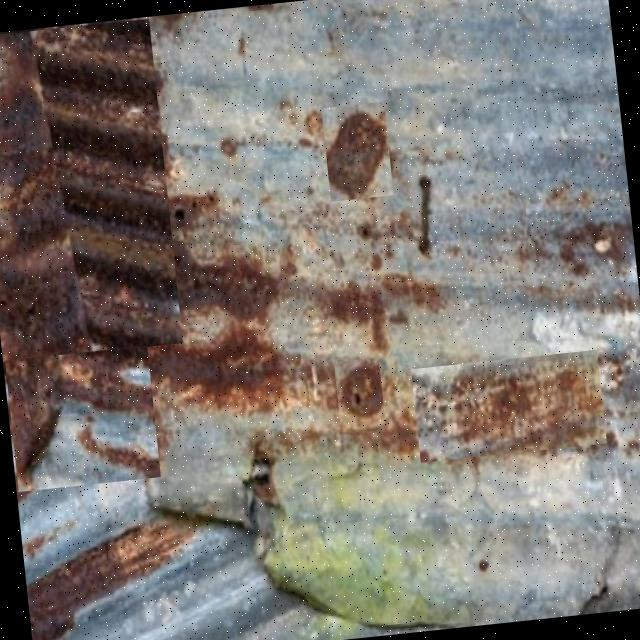Corrosion: (0, 0, 640, 640), (20, 510, 211, 640), (320, 106, 394, 201)
